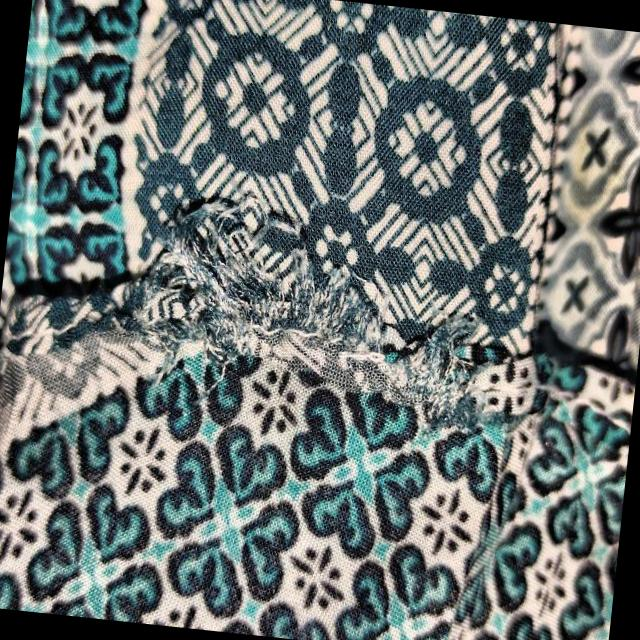gray stitch: (98, 189, 490, 423)
